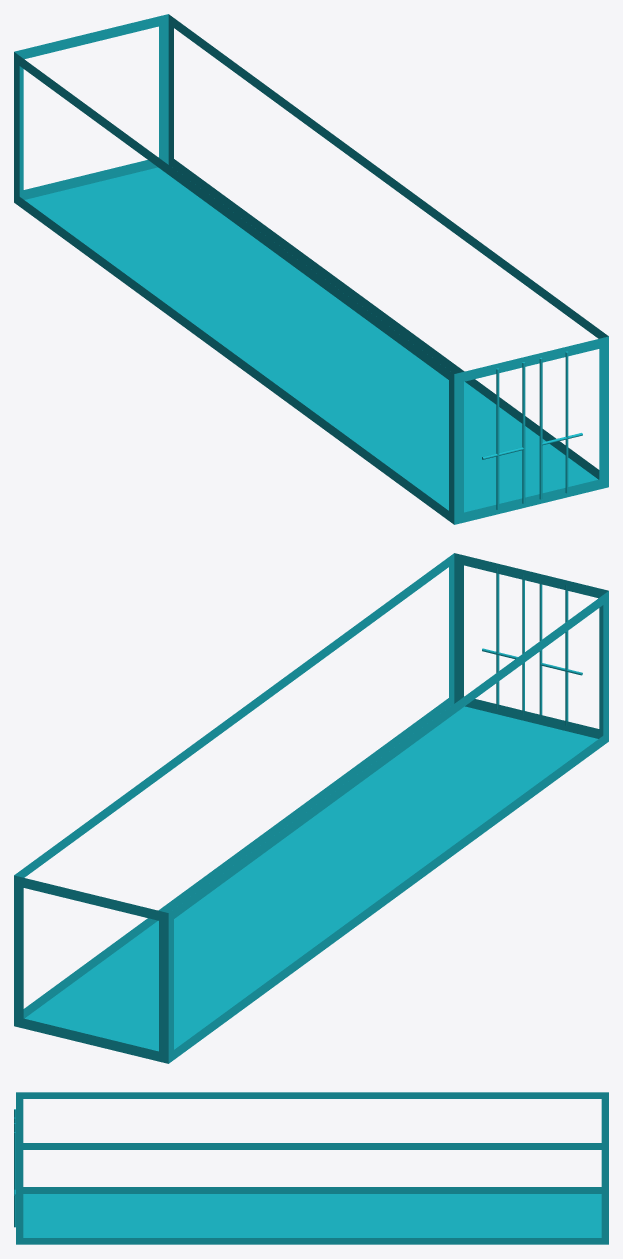
Rendered from Stoles 40DV.dae.
The picture shows the model from 3 angles, top to bottom: view 1: azimuth 30°, elevation 25°; view 2: azimuth 150°, elevation 25°; view 3: azimuth 270°, elevation 25°; orthographic projection. The views are drawn at different scales.
Parts seen in each view (by area): view 1: group_8; view 2: group_8; view 3: group_8.
Part boxes in pixels (x1,y1,x2,y2): group_8: (14,14,608,524); group_8: (14,553,608,1063); group_8: (16,1092,608,1244).
Bounding box in the file's own units: 96 × 475 × 89.52.
